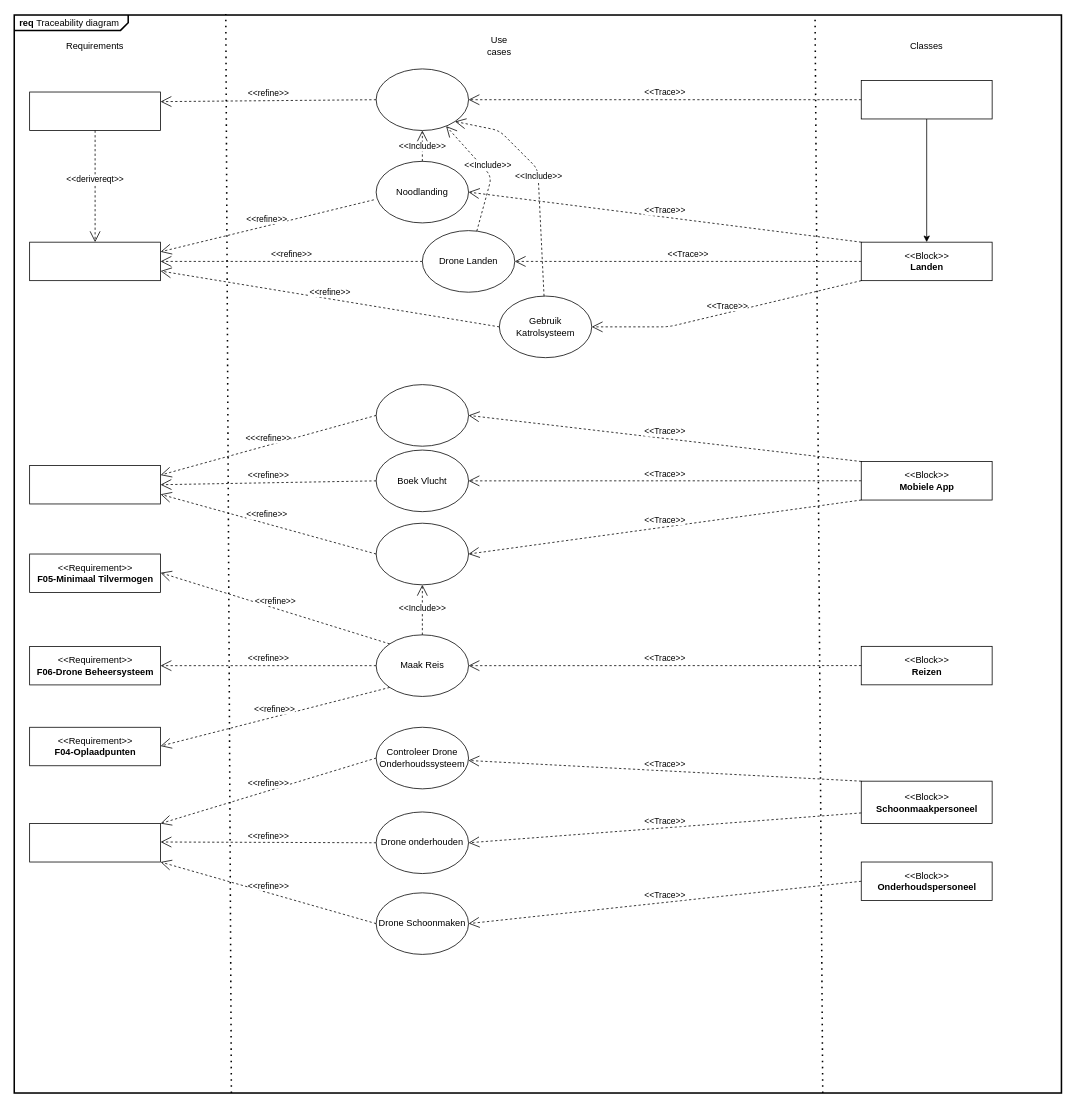
Some shapes in this 1075 by 1108 pixel diagram are drawn without their labels. The shapes that lost their labels are listed below. From the top down, each one's box as (x1, y1, x2, y2) in pixels, then its label:
(29, 91, 161, 131): <<Requirement>> F01-Afstandmeten
(375, 68, 469, 131): Controleer Landmogelijkheden
(860, 80, 992, 119): <<Block>> Afstandssensoren
(29, 241, 161, 281): <<Requirement>> F03-Nabije Landing
(375, 384, 469, 446): Checkout
(29, 465, 161, 504): <<Requirement>> F02-Phone App
(375, 522, 469, 585): Plan Route
(29, 823, 161, 862): <<Requirement>> F07-Drone in orde
